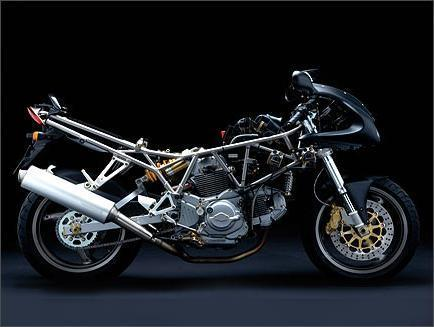motorcycle: (13, 66, 434, 300)
